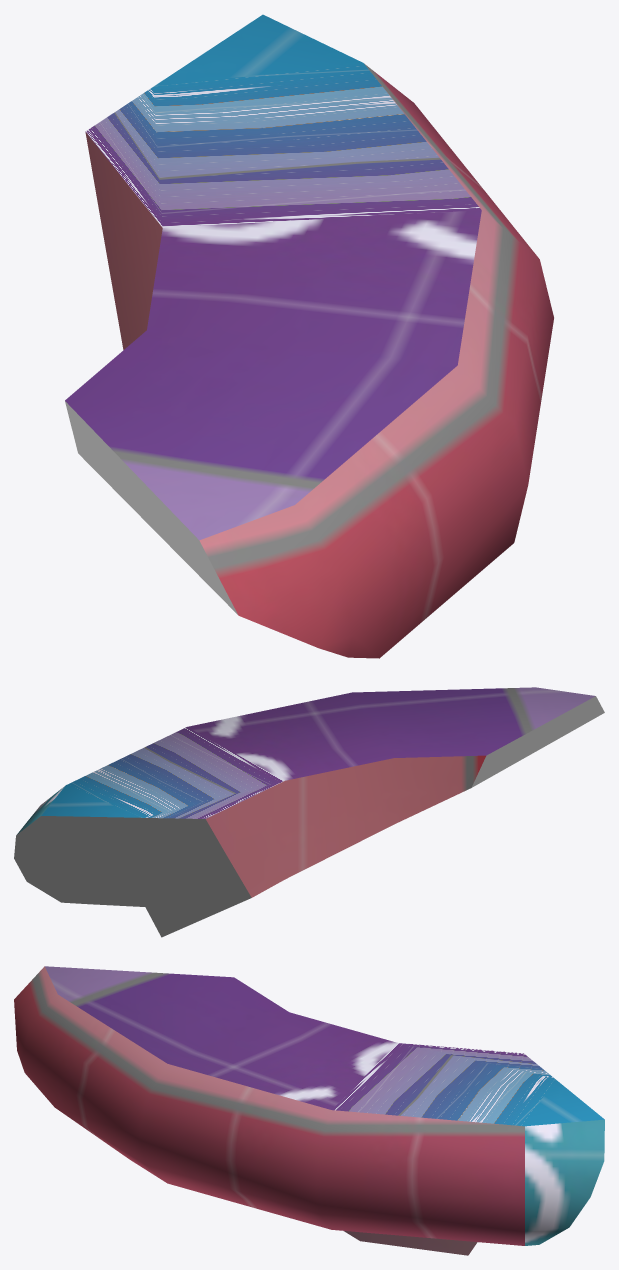
The model's file is RoundVase_SHAT_cell_024.fbx.
3 renders of one model, top to bottom at view 1: azimuth 30°, elevation 25°; view 2: azimuth 150°, elevation 25°; view 3: azimuth 270°, elevation 25°, orthographic. The views are drawn at different scales.
Parts seen in each view (by area): view 1: RoundVase_SHAT_cell_024; view 2: RoundVase_SHAT_cell_024; view 3: RoundVase_SHAT_cell_024.
Part boxes in pixels (<box>): RoundVase_SHAT_cell_024: <box>65,14,553,658</box>; RoundVase_SHAT_cell_024: <box>14,687,604,937</box>; RoundVase_SHAT_cell_024: <box>14,966,604,1255</box>.
Bounding box in the file's own units: 0.2375 × 0.1039 × 0.3358.
Materials: 2 (1 with a texture image).
